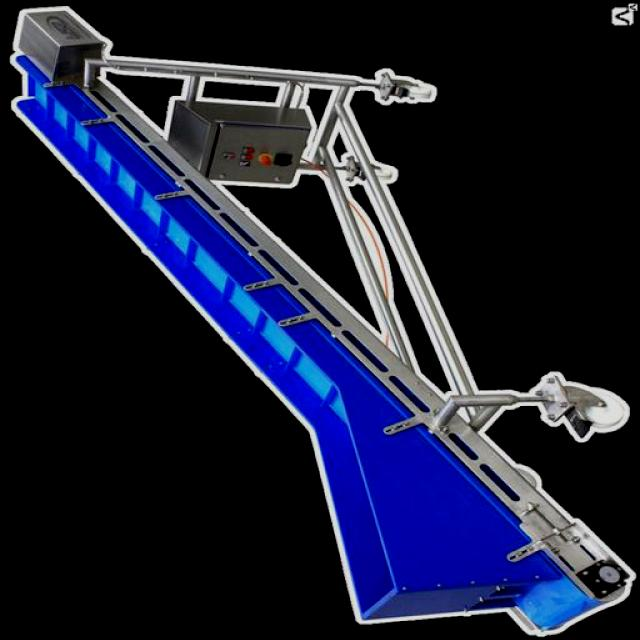conveyor: (16, 58, 352, 444)
